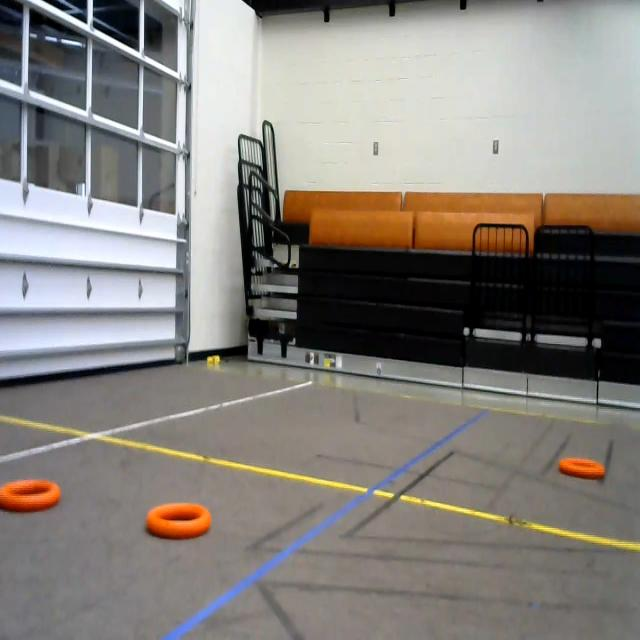note: (147, 494, 215, 546), (0, 472, 70, 517), (554, 448, 612, 492)
